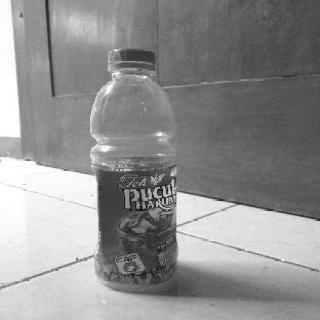plastic_bottles: (87, 46, 185, 292)
